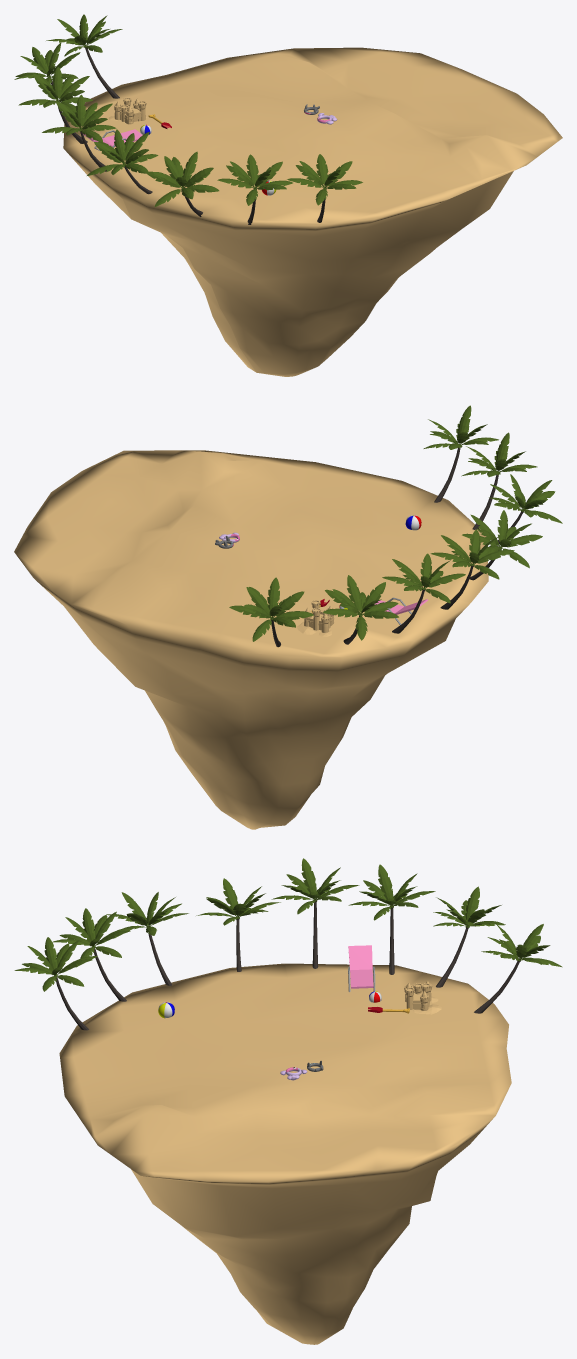
Rendered from Beach_Island.fbx.
The picture shows the model from 3 angles, top to bottom: view 1: azimuth 30°, elevation 25°; view 2: azimuth 150°, elevation 25°; view 3: azimuth 270°, elevation 25°; orthographic projection. The views are drawn at different scales.
Visible parts, largest first — view 1: Vert, Node.007, Node.008, Node, Node.006, Node.005, Node.001, Node.003, Node.002, Node.004; view 2: Vert, Node.003, Node.002, Node, Node.001, Node.008, Node.005, Node.007, Node.006, Node.004; view 3: Vert, Node.005, Node.006, Node.001, Node, Node.003, Node.002, Node.007, Node.008, group294144946, Node.004.
Boxes of the visible parts, x1,y1,x2,y2 form: Vert: (63, 47, 562, 376); Node.007: (145, 151, 219, 216); Node.008: (87, 129, 158, 194); Node: (42, 94, 116, 171); Node.006: (217, 154, 292, 224); Node.005: (287, 154, 362, 222); Node.001: (18, 67, 92, 143); Node.003: (46, 14, 122, 98); Node.002: (14, 43, 80, 113); Node.004: (108, 97, 147, 124); Vert: (14, 450, 488, 829); Node.003: (229, 577, 313, 647); Node.002: (323, 575, 398, 644); Node: (430, 529, 514, 609); Node.001: (382, 553, 465, 633); Node.008: (462, 510, 542, 580); Node.005: (423, 405, 498, 502); Node.007: (489, 474, 562, 546); Node.006: (461, 432, 537, 529); Node.004: (296, 600, 334, 636); Vert: (59, 963, 511, 1344); Node.005: (14, 937, 97, 1030); Node.006: (52, 908, 135, 1001); Node.001: (348, 864, 435, 974); Node: (271, 858, 359, 968); Node.003: (474, 924, 562, 1013); Node.002: (433, 886, 505, 987); Node.007: (106, 892, 188, 985); Node.008: (196, 878, 280, 971); group294144946: (348, 945, 375, 992); Node.004: (404, 980, 441, 1014).
Size of the model in its own units: 8711 by 6020 by 8282.
